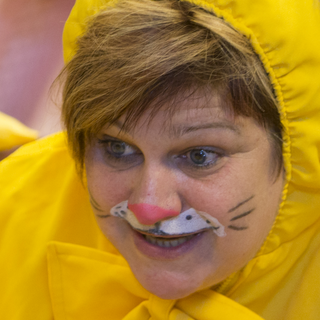eye: (176, 142, 228, 169), (97, 138, 142, 164)
